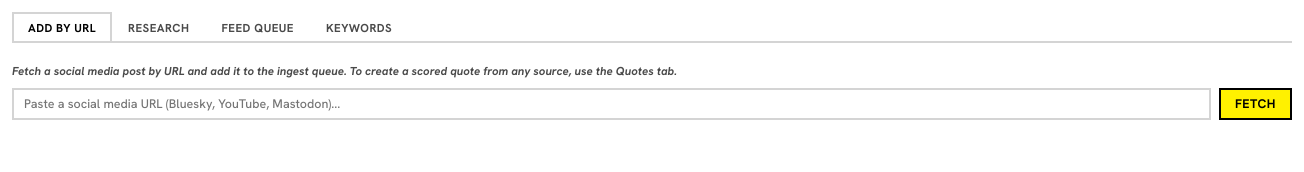
Test case: SocialFeedTab — sub-nav › switches to the Research view when its tab is clicked
Click the button "Research".
click(159, 26)  # box [112,12,205,41]
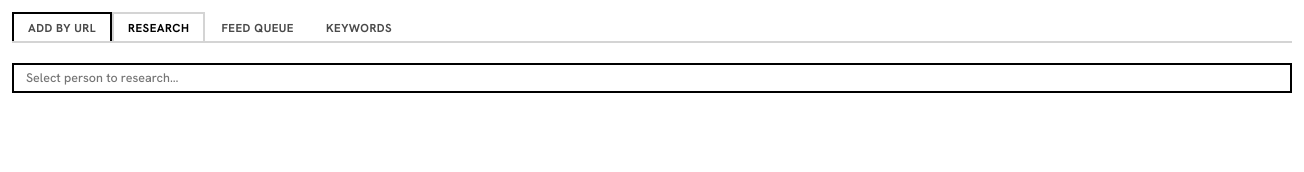
Expected: the field with placeholder "Select person to research…" is shown, [24,69,1280,87]
